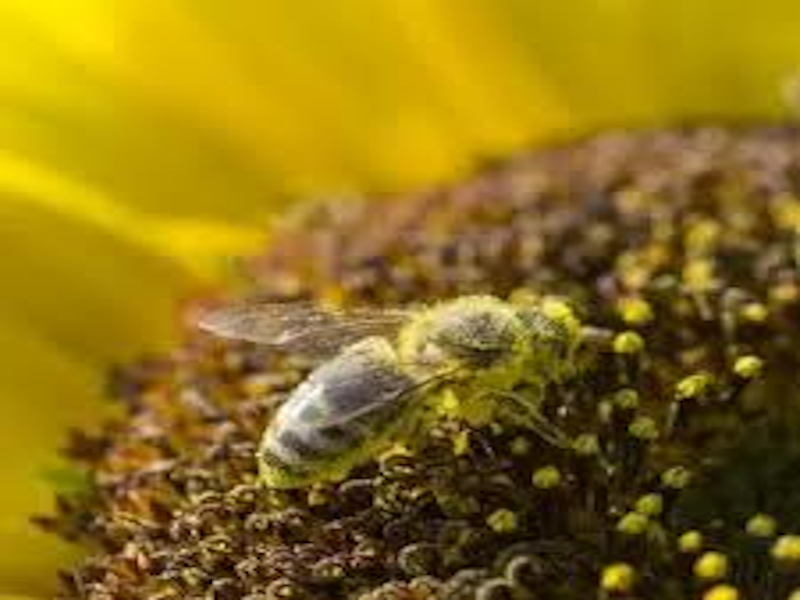abeja: (198, 274, 600, 501)
